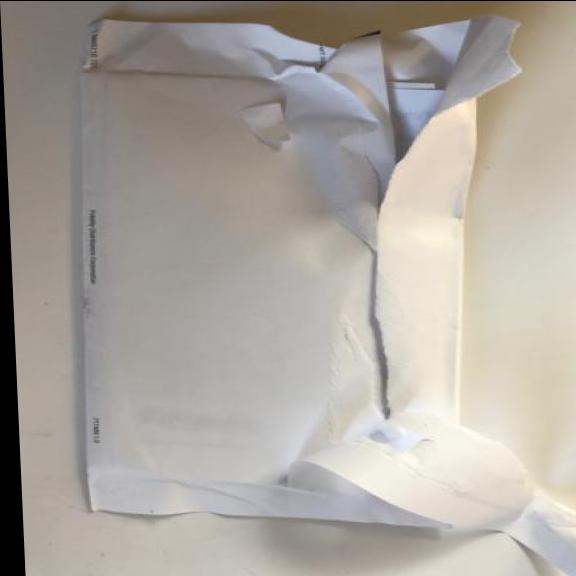Kertas: (54, 8, 552, 522)
